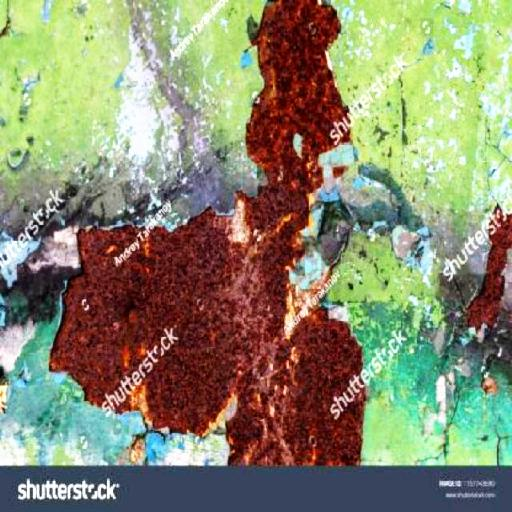corrosion: (50, 210, 376, 468), (231, 0, 364, 198), (466, 206, 512, 334)
